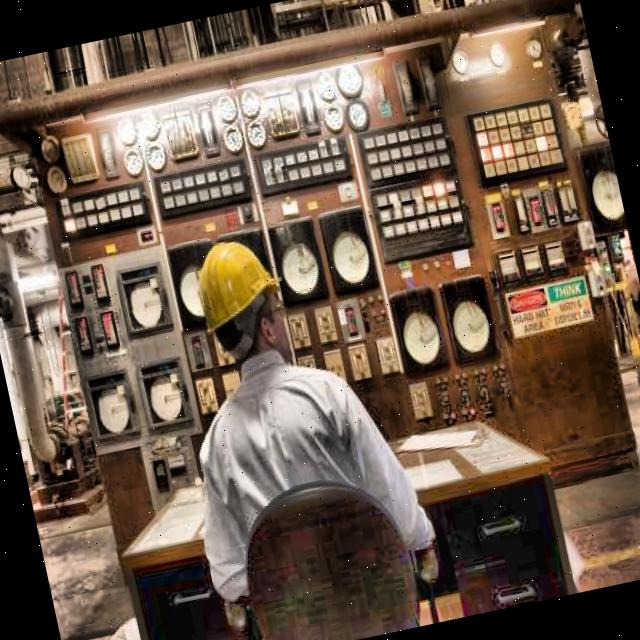helmet: (180, 216, 302, 389)
